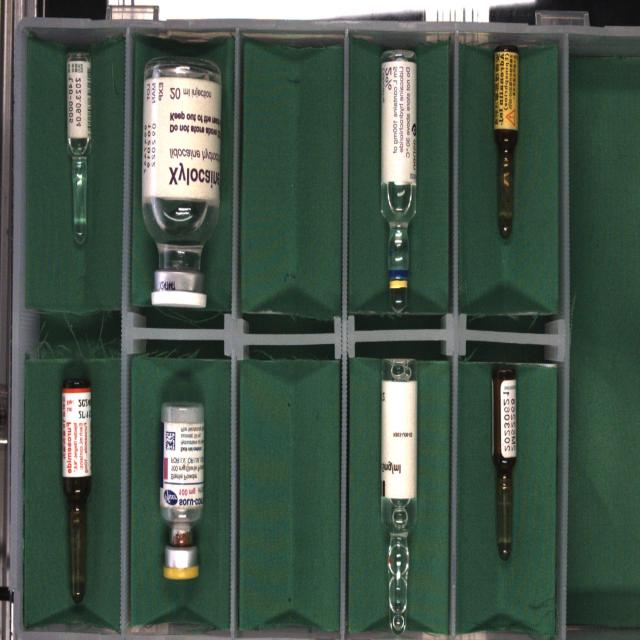Vials: (142, 58, 221, 308), (159, 404, 204, 580)
